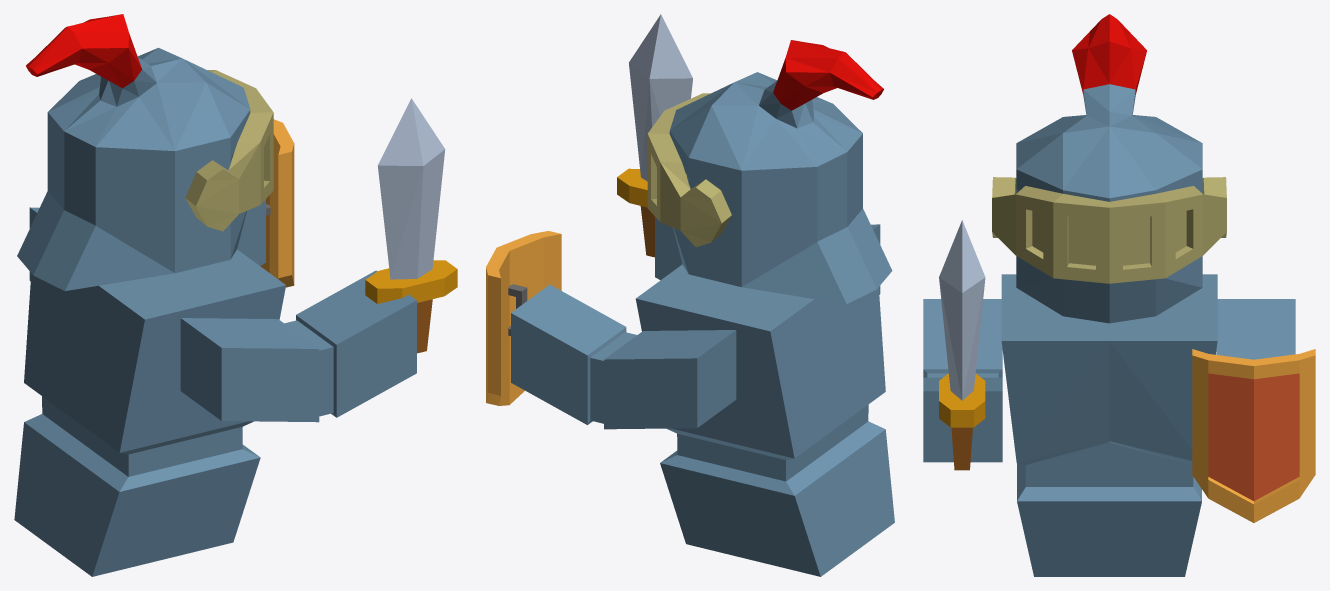
The model's file is Knight.dae.
3 views of the same model, side by side, from view 1: azimuth 30°, elevation 25°; view 2: azimuth 150°, elevation 25°; view 3: azimuth 270°, elevation 25° (orthographic). The views are drawn at different scales.
Parts seen in each view (by area): view 1: Body, Head.003, Arm, Sword, Head.002, Head.004, Shield; view 2: Body, Head.003, Arm, Shield, Sword, Head.002, Head.004; view 3: Body, Head.003, Head.002, Shield, Arm, Sword, Head.004.
Part boxes in pixels (bbox=[...]): Body: bbox=[14, 249, 285, 576]; Head.003: bbox=[17, 47, 250, 290]; Arm: bbox=[29, 199, 416, 422]; Sword: bbox=[365, 98, 457, 353]; Head.002: bbox=[185, 70, 273, 231]; Head.004: bbox=[26, 14, 141, 88]; Shield: bbox=[260, 119, 294, 287]; Body: bbox=[635, 264, 894, 576]; Head.003: bbox=[669, 72, 892, 304]; Arm: bbox=[511, 217, 880, 429]; Shield: bbox=[486, 231, 561, 405]; Sword: bbox=[617, 14, 692, 257]; Head.002: bbox=[647, 93, 731, 247]; Head.004: bbox=[773, 40, 883, 110]; Body: bbox=[1001, 274, 1217, 576]; Head.003: bbox=[1016, 84, 1202, 323]; Head.002: bbox=[992, 177, 1226, 283]; Shield: bbox=[1192, 349, 1315, 522]; Arm: bbox=[923, 299, 1295, 462]; Sword: bbox=[939, 220, 985, 470]; Head.004: bbox=[1072, 14, 1146, 94].
Size of the model in its own units: 2.09 by 2.11 by 2.98.
